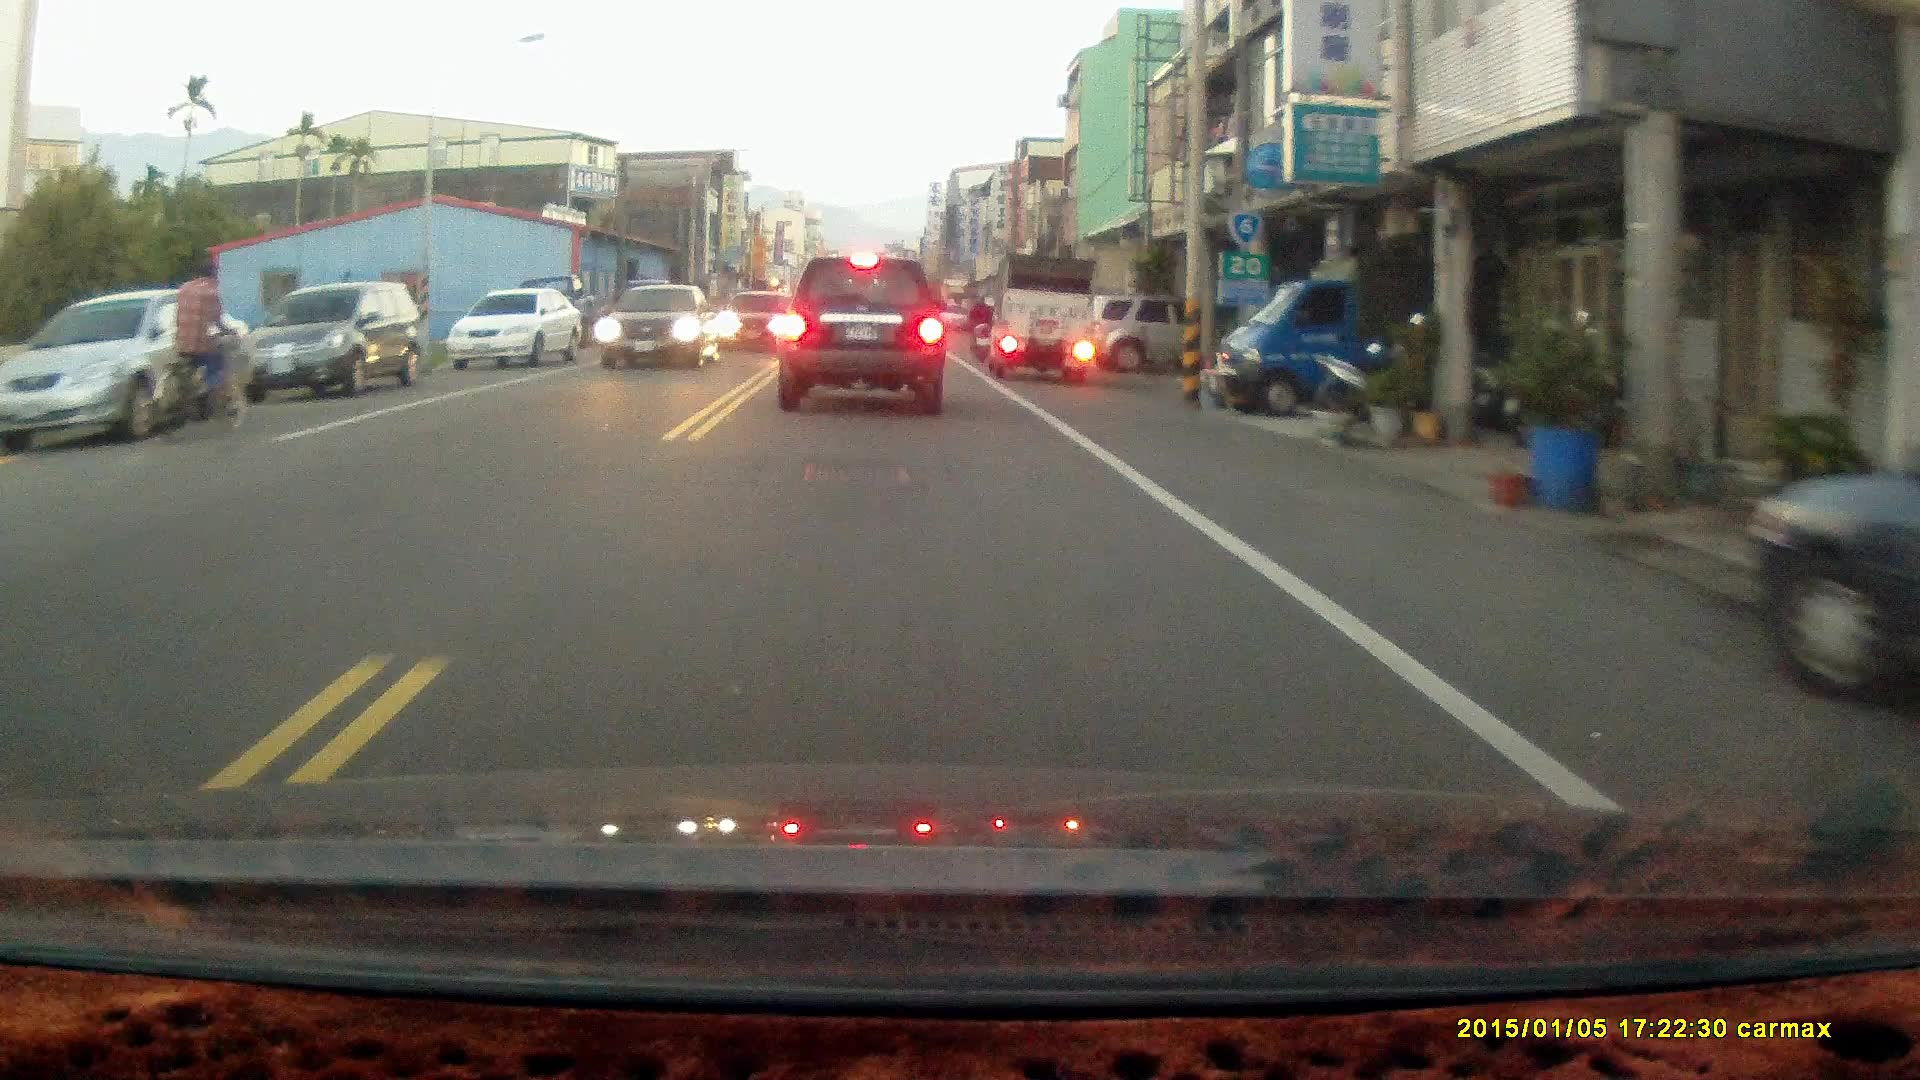rider: (149, 255, 249, 443), (965, 284, 1000, 362)
vehicle: (1738, 361, 1920, 697), (1223, 229, 1441, 418), (4, 291, 249, 450), (777, 253, 948, 414), (236, 279, 431, 402), (993, 251, 1097, 381), (452, 287, 591, 370), (601, 281, 718, 369), (1091, 289, 1184, 373), (720, 286, 795, 353)
